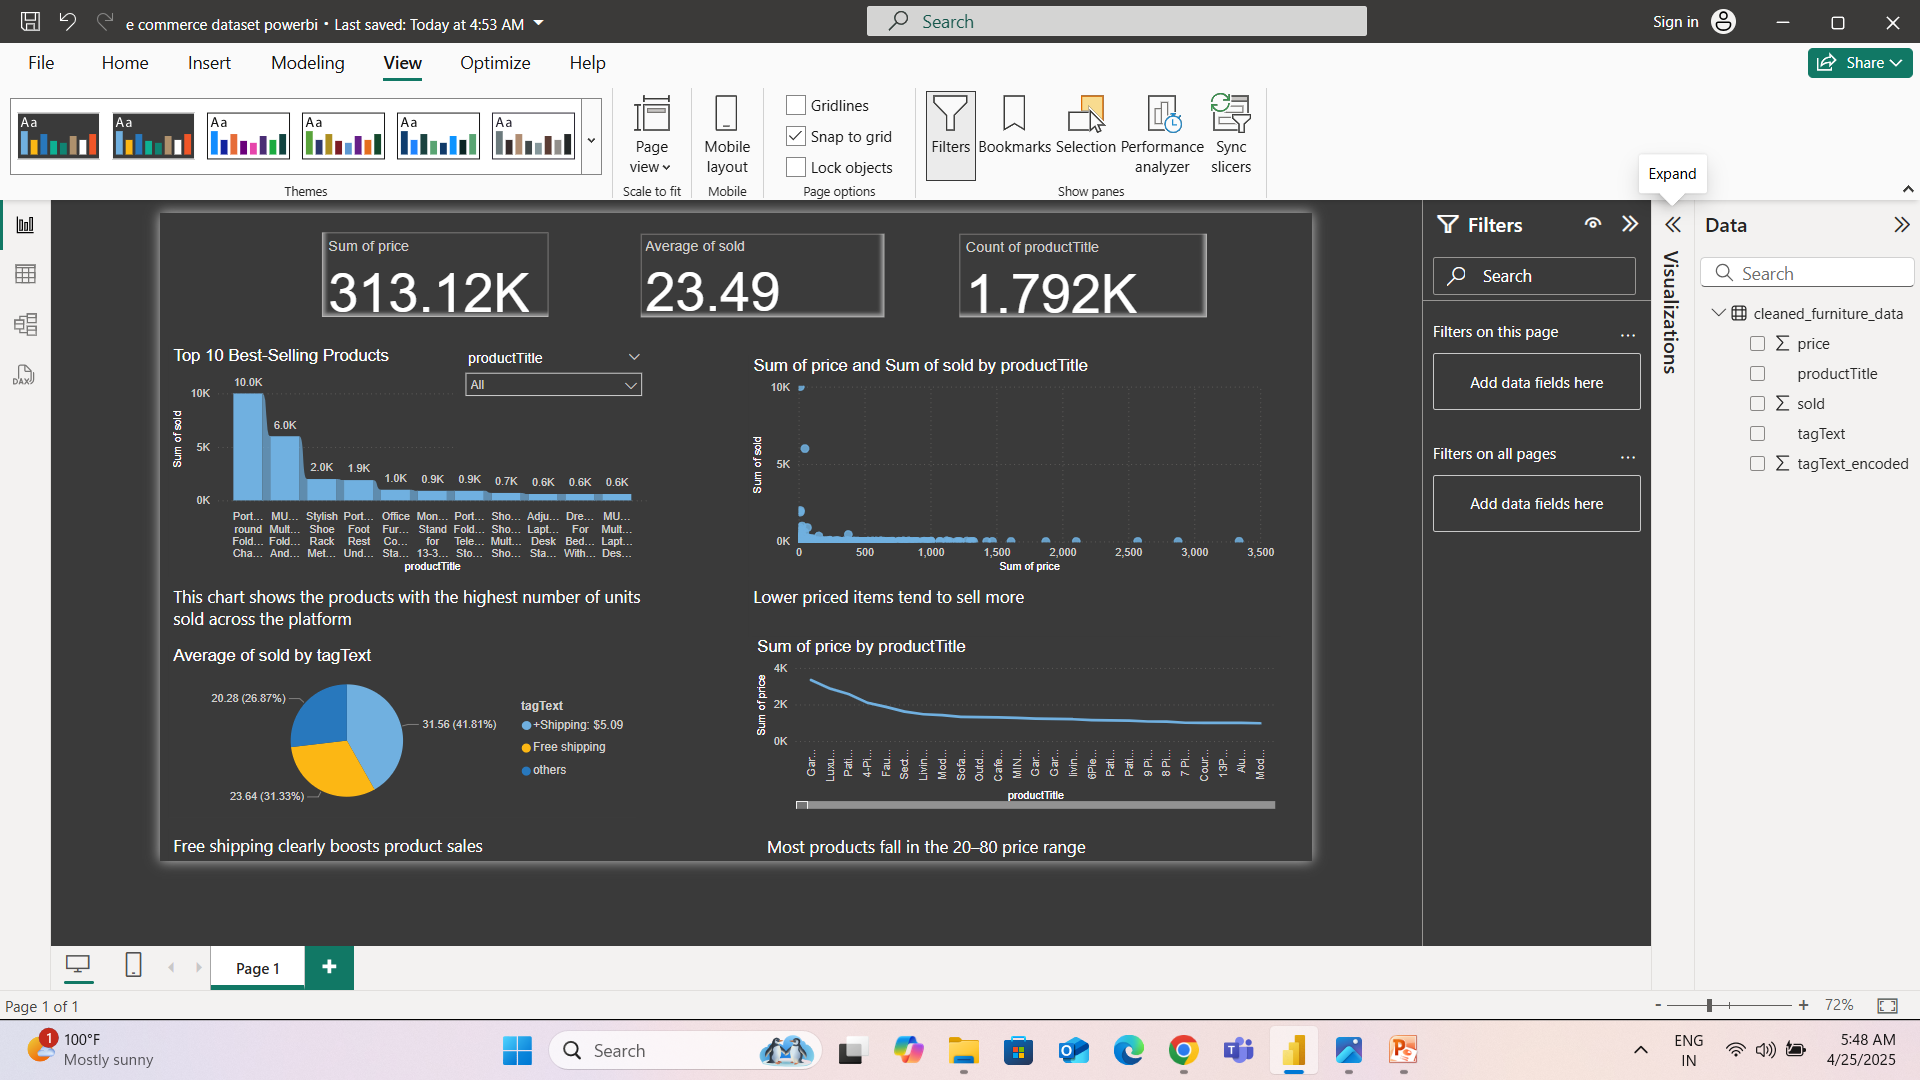

The page's visual inventory and layout, read from the dashboard file:
{"tool":"powerbi","page":{"name":"Page 1","canvas":[1280,720],"ordinal":0},"visuals":[{"type":"columnChart","title":"Top 10 Best-Selling Products","fields":{"Category":["cleaned_furniture_data.productTitle"],"Y":["Sum(cleaned_furniture_data.sold)"]},"box":[9.7,147.2,536.1,256.9],"z":0},{"type":"textbox","box":[9.7,408.3,554.2,62.5],"z":1000},{"type":"scatterChart","fields":{"Category":["cleaned_furniture_data.productTitle"],"X":["Sum(cleaned_furniture_data.price)"],"Y":["Sum(cleaned_furniture_data.sold)"]},"box":[654.5,158.4,589.6,245.5],"z":2000},{"type":"textbox","box":[654.5,407.8,602.6,62.3],"z":4000},{"type":"pieChart","fields":{"Category":["cleaned_furniture_data.tagText"],"Y":["Avg(cleaned_furniture_data.sold)"]},"box":[9.1,480.5,519.5,190.9],"z":5000},{"type":"textbox","box":[9.4,685.2,535.8,35],"z":6000},{"type":"lineChart","fields":{"Category":["cleaned_furniture_data.productTitle"],"Y":["Sum(cleaned_furniture_data.price)"]},"box":[658.3,470.8,586.1,195.8],"z":7000},{"type":"textbox","box":[670.1,685.7,575.3,35.1],"z":8000},{"type":"slicer","fields":{"Values":["cleaned_furniture_data.productTitle"]},"box":[328.5,146.7,216.7,130.6],"z":9000},{"type":"cardVisual","fields":{"Data":["Avg(cleaned_furniture_data.sold)"]},"box":[528.6,18.2,281.8,103.9],"z":10000},{"type":"cardVisual","fields":{"Data":["Count(cleaned_furniture_data.productTitle)"]},"box":[883.1,18.2,285.7,103.9],"z":11000},{"type":"cardVisual","fields":{"Data":["Sum(cleaned_furniture_data.price)"]},"box":[175,16.7,262.5,104.2],"z":11001}]}

Visuals, with their boxes on the page's 1280x720 design canvas (x1, y1, x2, y2). These are canvas units, not pixel positions in the 1920x1080 screenshot, which may show the page scaled, cropped or inside an application window:
"Top 10 Best-Selling Products" columnChart: <box>10,147,546,404</box>
textbox: <box>10,408,564,471</box>
scatterChart - cleaned_furniture_data.productTitle x Sum(cleaned_furniture_data.price): <box>654,158,1244,404</box>
textbox: <box>654,408,1257,470</box>
pieChart - cleaned_furniture_data.tagText x Avg(cleaned_furniture_data.sold): <box>9,480,529,671</box>
textbox: <box>9,685,545,720</box>
lineChart - cleaned_furniture_data.productTitle x Sum(cleaned_furniture_data.price): <box>658,471,1244,667</box>
textbox: <box>670,686,1245,721</box>
slicer - cleaned_furniture_data.productTitle: <box>328,147,545,277</box>
cardVisual - Avg(cleaned_furniture_data.sold): <box>529,18,810,122</box>
cardVisual - Count(cleaned_furniture_data.productTitle): <box>883,18,1169,122</box>
cardVisual - Sum(cleaned_furniture_data.price): <box>175,17,438,121</box>
